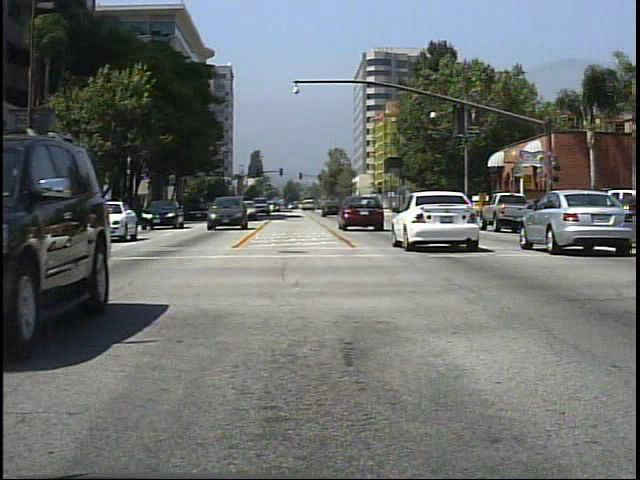person: (495, 189, 513, 224), (535, 193, 553, 228)
